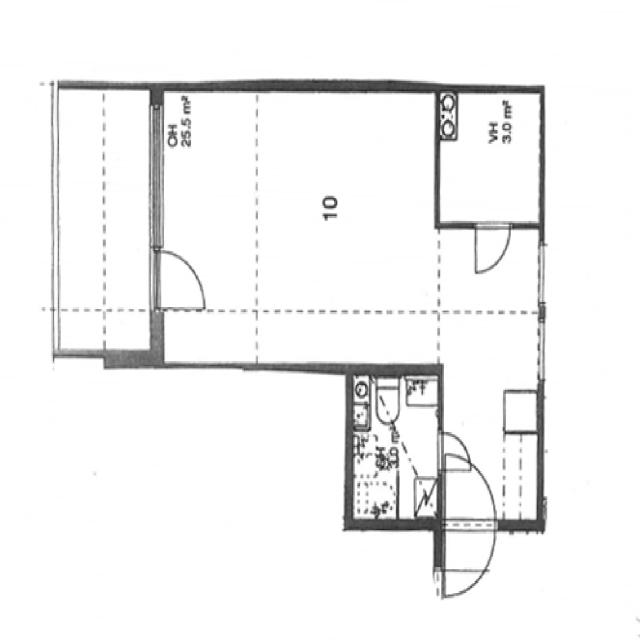door: (439, 455, 504, 597), (152, 241, 212, 320), (472, 218, 514, 276), (435, 427, 472, 477)
window: (141, 97, 173, 262), (534, 312, 551, 388)
zone: (157, 77, 438, 374), (249, 85, 436, 372), (54, 78, 157, 372), (437, 88, 544, 226), (349, 368, 441, 522)
